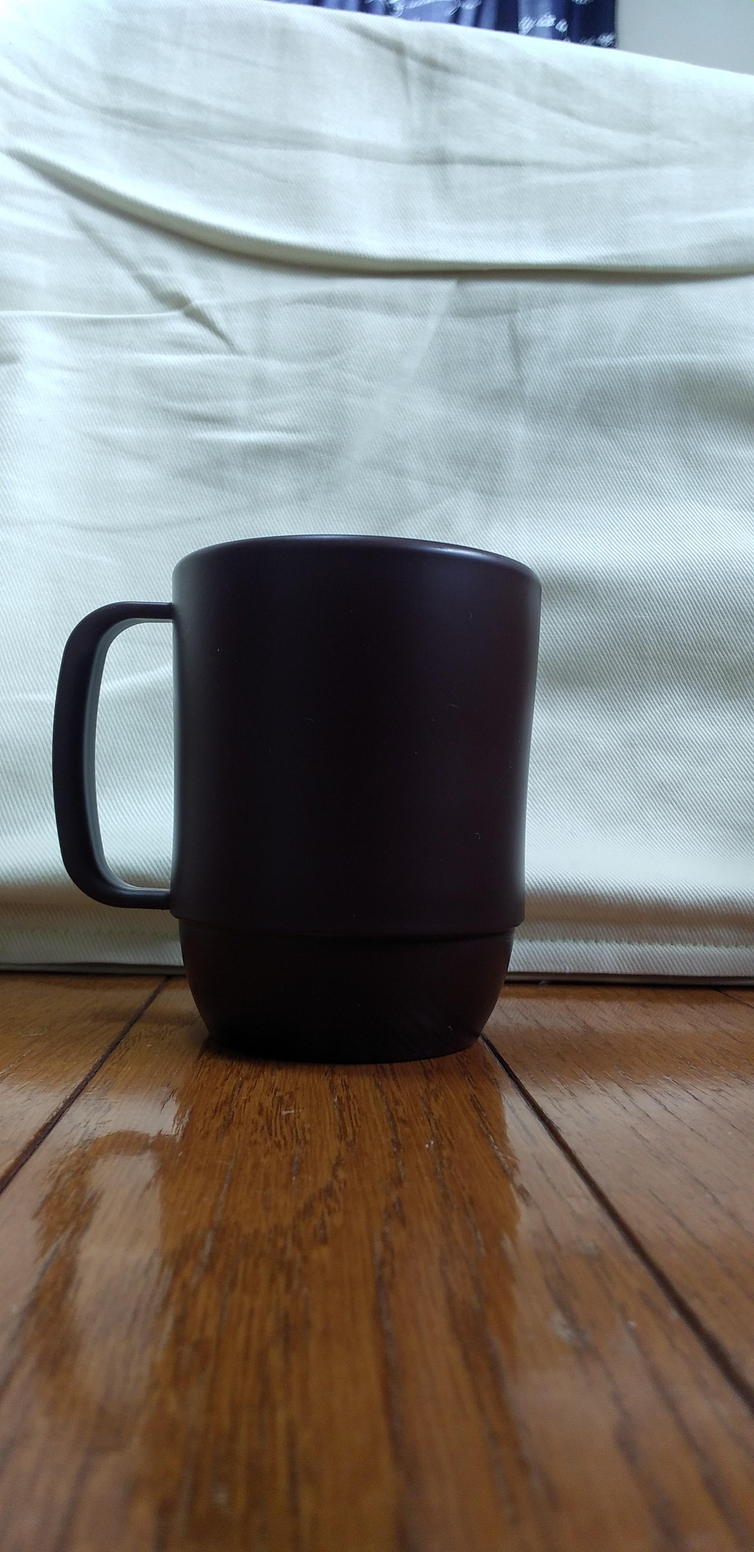mug-real100-3d100: (54, 537, 540, 1062)
